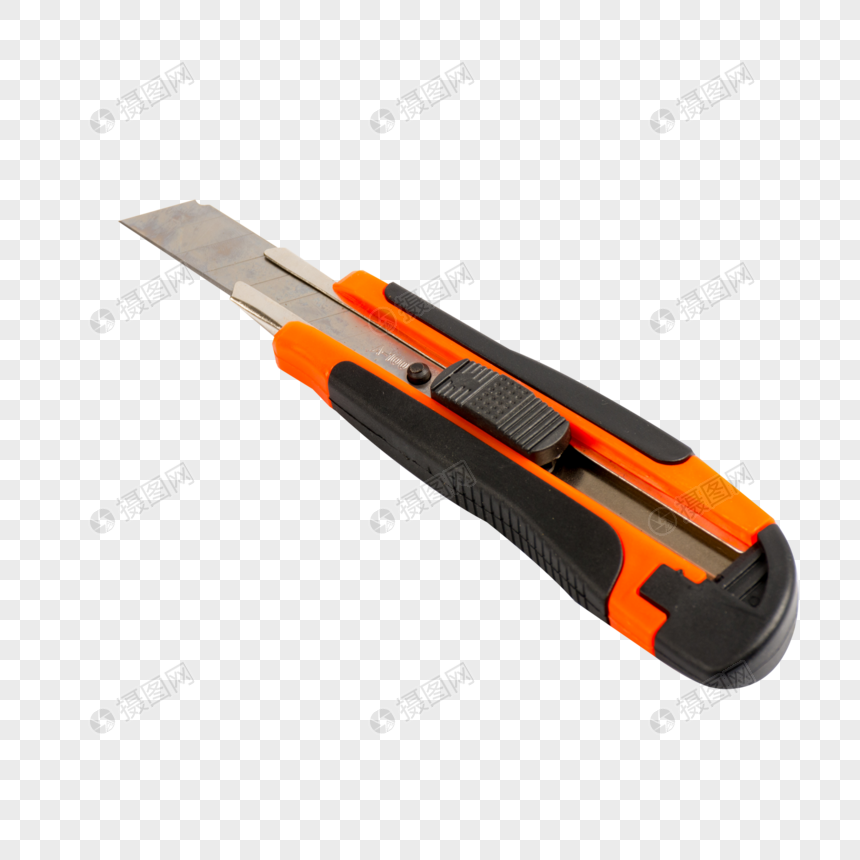cutter: (114, 198, 798, 687)
